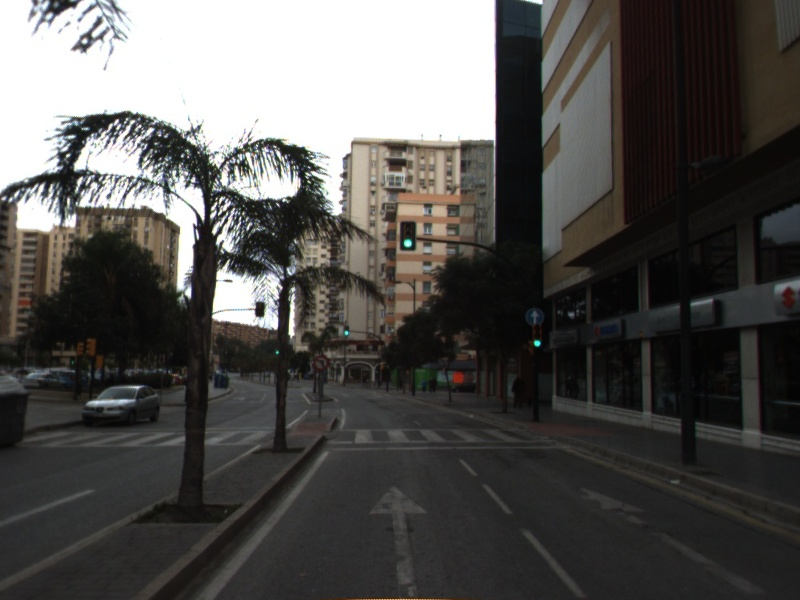STRAIGHT: (575, 481, 772, 598), (363, 481, 434, 600)
